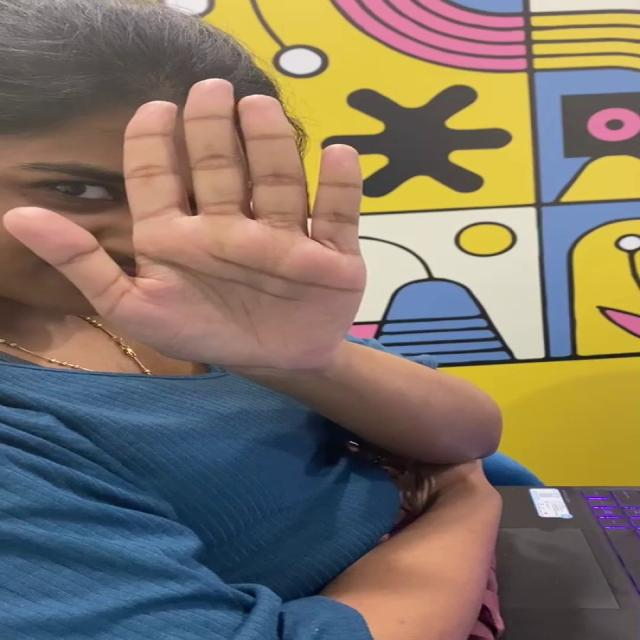no-gloves: (0, 52, 380, 382)
